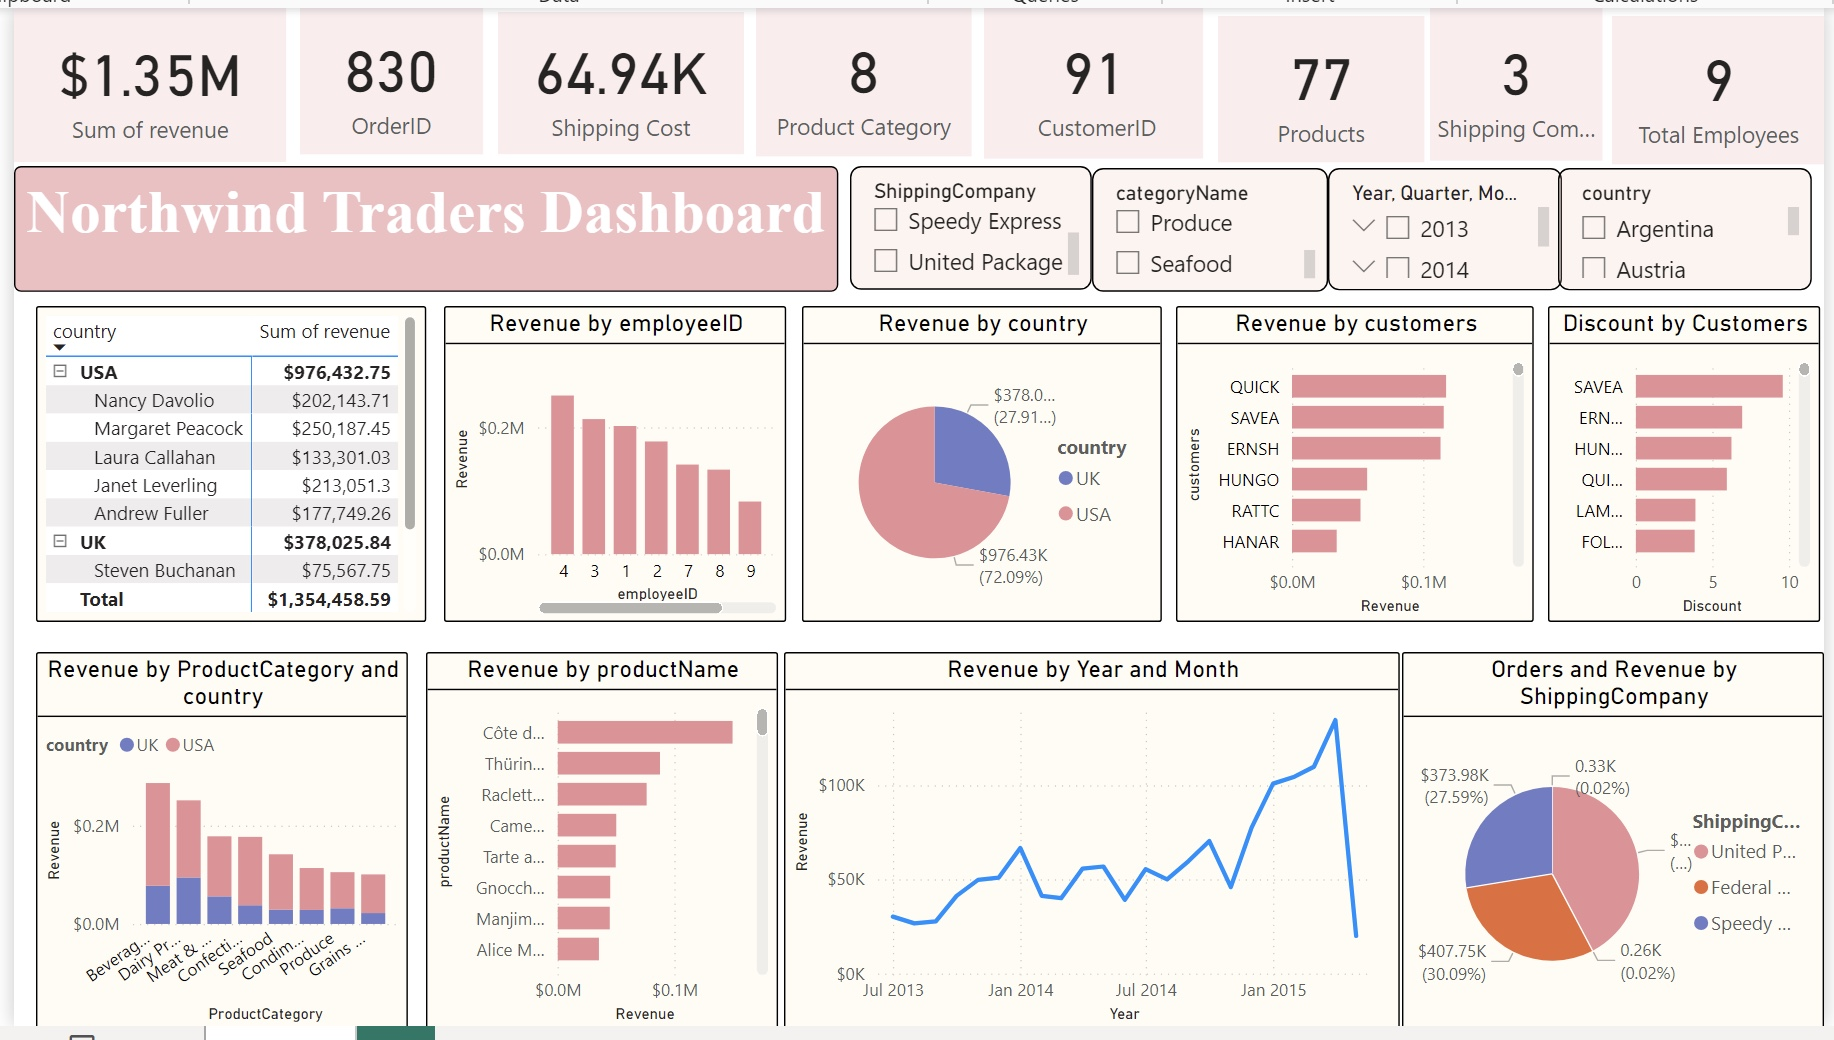

This screenshot's page, from the dashboard's own definition file:
{"tool":"powerbi","page":{"name":"Page 1","canvas":[1280,720],"ordinal":0},"visuals":[{"type":"card","fields":{"Values":["Sum(order_details.revenue)"]},"box":[0,0,192.6,109.2],"z":0},{"type":"columnChart","fields":{"Category":["employee.employeeID"],"Y":["Sum(order_details.revenue)"]},"box":[298.5,249,241.9,223.5],"z":1000},{"type":"pieChart","fields":{"Category":["employee.country"],"Y":["Sum(order_details.revenue)"]},"box":[544.6,249,264.5,223.5],"z":2000},{"type":"pivotTable","fields":{"Rows":["employee.country","employee.employeeName"],"Values":["Sum(order_details.revenue)"]},"box":[15.6,249,275.8,223.5],"z":3000},{"type":"card","fields":{"Values":["CountNonNull(order_1.orderID)"]},"box":[202.6,0,129.3,103.5],"z":4000},{"type":"card","fields":{"Values":["Count(product.productID)"]},"box":[850.8,5.1,145.8,103.4],"z":5000},{"type":"card","fields":{"Values":["Count(categories.categoryName)"]},"box":[524.6,0,152.3,104.9],"z":6000},{"type":"card","fields":{"Values":["Count(customer.customerID)"]},"box":[685.5,0,155.2,106.3],"z":7000},{"type":"card","fields":{"Values":["Sum(order_1.freight)"]},"box":[342,2.9,173.9,100.6],"z":8000},{"type":"clusteredBarChart","fields":{"Category":["customer.customerID","customer.country"],"Y":["Sum(order_details.revenue)"]},"box":[820.4,249,257.4,223.5],"z":9000},{"type":"columnChart","fields":{"Category":["categories.categoryName"],"Y":["Sum(order_details.revenue)"],"Series":["employee.country"]},"box":[15.6,495.1,263.1,226.3],"z":10000},{"type":"lineChart","fields":{"Category":["order_1.orderDate.Variation.Date Hierarchy.Year","order_1.orderDate.Variation.Date Hierarchy.Month"],"Y":["Sum(order_details.revenue)"]},"box":[544.6,495.1,435.7,226.3],"z":11000},{"type":"barChart","fields":{"Y":["Sum(order_details.revenue)"],"Category":["product.productName"]},"box":[291.4,495.1,249,226.3],"z":12000},{"type":"columnChart","fields":{"Category":["shippers.shipperID","shippers.companyName"],"Y":["Sum(order_details.revenue)"]},"box":[991.6,495.1,288.6,227.7],"z":13000},{"type":"card","fields":{"Values":["Count(employee.employeeName)"]},"box":[1129.6,5.7,150.9,104.9],"z":14000},{"type":"barChart","fields":{"Category":["customer.customerID"],"Y":["Sum(order_details.discount)"]},"box":[1085,249,192.4,223.5],"z":14001},{"type":"slicer","fields":{"Values":["order_1.orderDate.Variation.Date Hierarchy.Year","order_1.orderDate.Variation.Date Hierarchy.Quarter","order_1.orderDate.Variation.Date Hierarchy.Month","order_1.orderDate.Variation.Date Hierarchy.Day"]},"box":[703,137.2,268.8,84.9],"z":14002},{"type":"slicer","fields":{"Values":["customer.country"]},"box":[981.6,136.5,298.9,86.2],"z":14003},{"type":"card","fields":{"Values":["Count(shippers.shipperID)"]},"box":[1001.7,0,122.2,107.8],"z":14004},{"type":"textbox","box":[0,136.5,504.4,87.7],"z":14005},{"type":"slicer","fields":{"Values":["categories.categoryName"]},"box":[459.7,135.8,226.3,86.3],"z":14006}]}

Visuals, with their boxes in screenshot pixels (x1, y1, x2, y2):
card - Sum(order_details.revenue): [10, 0, 282, 130]
columnChart - employee.employeeID x Sum(order_details.revenue): [431, 328, 773, 644]
pieChart - employee.country x Sum(order_details.revenue): [779, 328, 1153, 644]
pivotTable - employee.country x employee.employeeName: [32, 328, 421, 644]
card - CountNonNull(order_1.orderID): [296, 0, 479, 122]
card - Count(product.productID): [1212, 0, 1418, 129]
card - Count(categories.categoryName): [751, 0, 966, 124]
card - Count(customer.customerID): [978, 0, 1197, 126]
card - Sum(order_1.freight): [493, 0, 739, 122]
clusteredBarChart - customer.customerID x customer.country: [1169, 328, 1532, 644]
columnChart - categories.categoryName x Sum(order_details.revenue): [32, 676, 403, 995]
lineChart - order_1.orderDate.Variation.Date Hierarchy.Year x order_1.orderDate.Variation.Date Hierarchy.Month: [779, 676, 1395, 995]
barChart - Sum(order_details.revenue) x product.productName: [421, 676, 773, 995]
columnChart - shippers.shipperID x shippers.companyName: [1411, 676, 1818, 997]
card - Count(employee.employeeName): [1606, 0, 1819, 132]
barChart - customer.customerID x Sum(order_details.discount): [1543, 328, 1815, 644]
slicer - order_1.orderDate.Variation.Date Hierarchy.Year x order_1.orderDate.Variation.Date Hierarchy.Quarter: [1003, 170, 1383, 290]
slicer - customer.country: [1397, 169, 1819, 291]
card - Count(shippers.shipperID): [1425, 0, 1598, 128]
textbox: [10, 169, 722, 293]
slicer - categories.categoryName: [659, 168, 979, 290]
